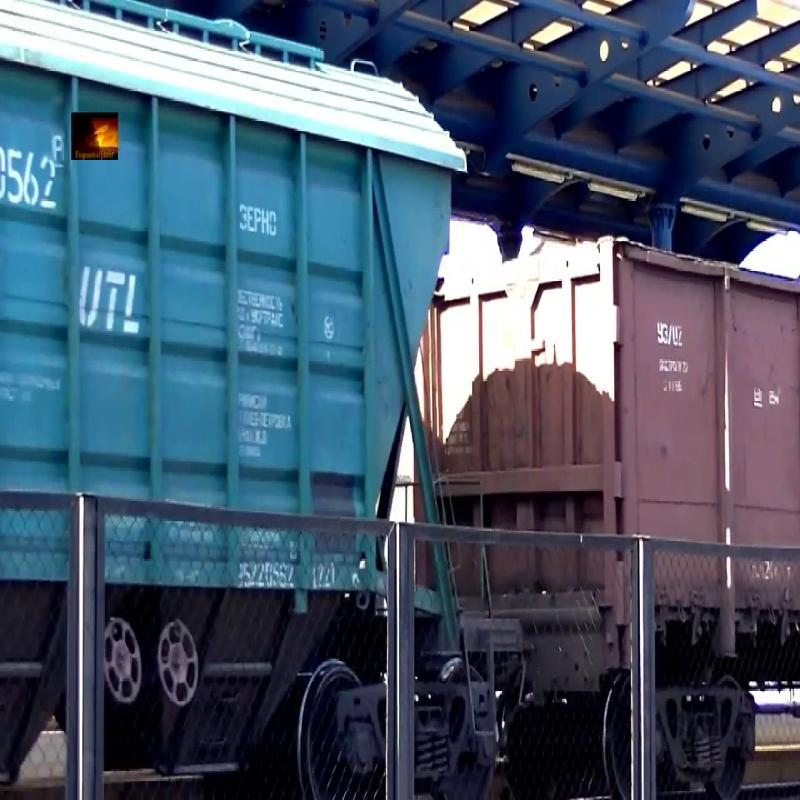train: (2, 14, 483, 778), (494, 47, 800, 775)
